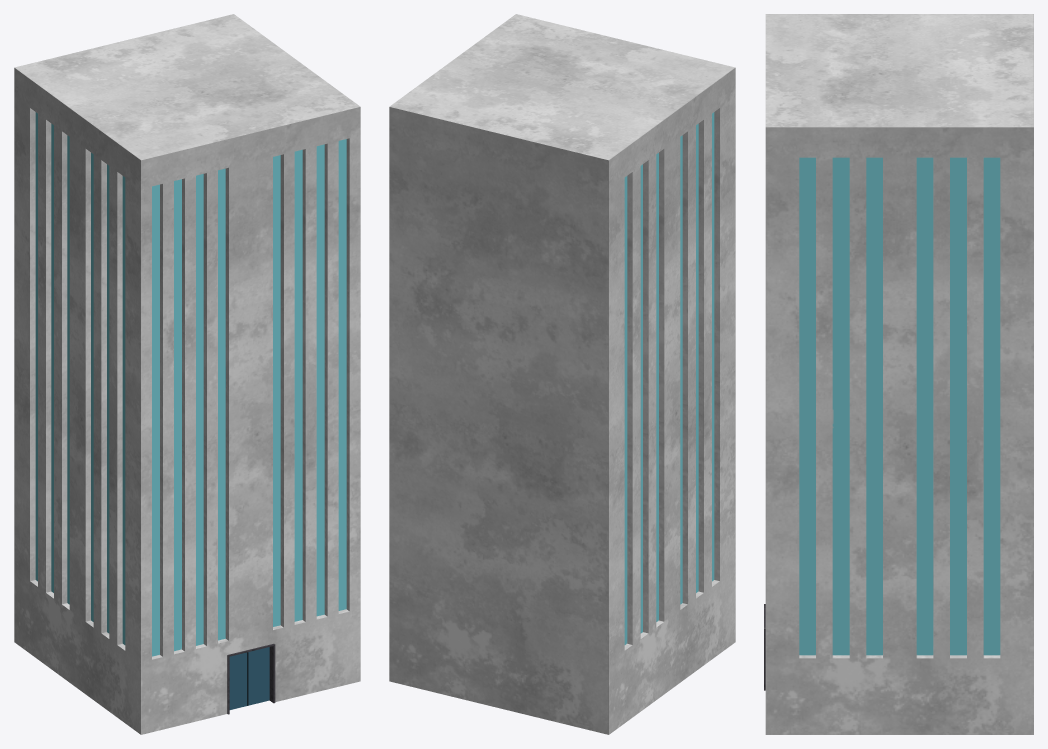
Rendered from Building_02_Texture_12.fbx.
3 renders of one model, left to right at view 1: azimuth 30°, elevation 25°; view 2: azimuth 150°, elevation 25°; view 3: azimuth 270°, elevation 25°, orthographic. The views are drawn at different scales.
Parts seen in each view (by area): view 1: Buil_02_02; view 2: Buil_02_02; view 3: Buil_02_02.
Boxes of the visible parts, x1=… form: Buil_02_02: x1=14, y1=14, x2=360, y2=734; Buil_02_02: x1=389, y1=14, x2=735, y2=734; Buil_02_02: x1=764, y1=14, x2=1033, y2=734.
Size of the model in its own units: 1440 by 3600 by 1449.
Materials: 1 (1 with a texture image).
